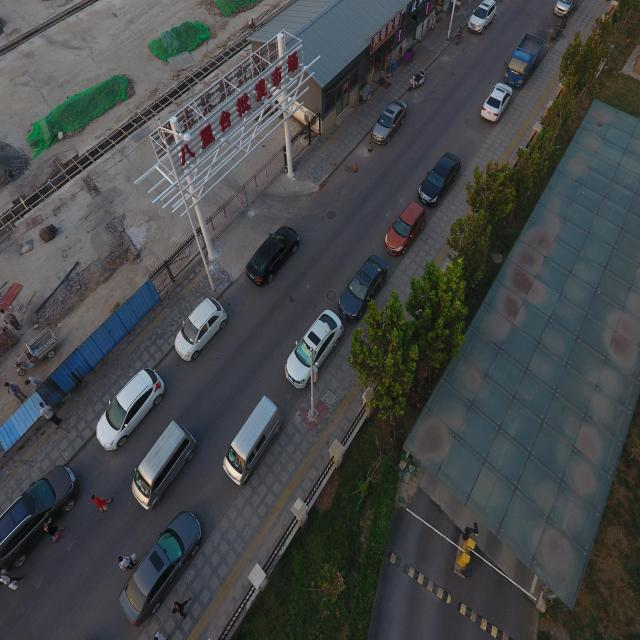p3rson: (36, 400, 62, 429), (39, 516, 66, 541), (2, 377, 26, 404), (114, 552, 137, 577), (89, 488, 112, 512), (0, 307, 21, 331), (23, 372, 47, 393), (0, 567, 25, 587), (169, 600, 190, 620), (152, 629, 173, 640)
